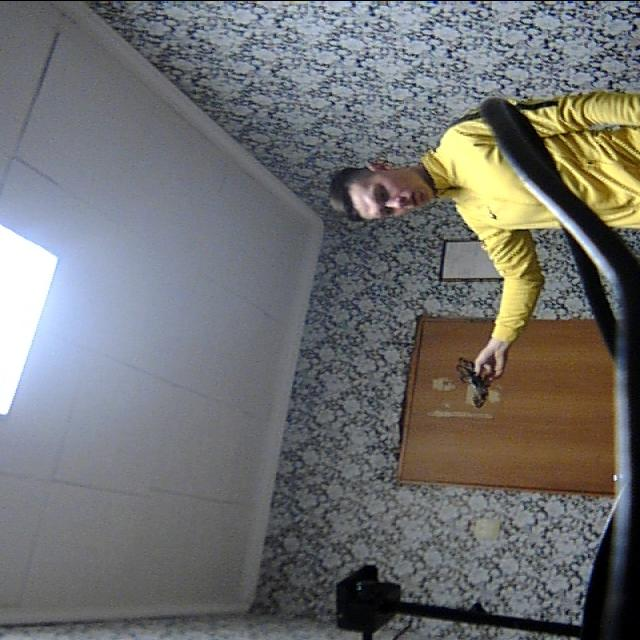drone: (442, 349, 504, 411)
